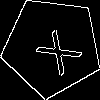X: (27, 22, 83, 77)
